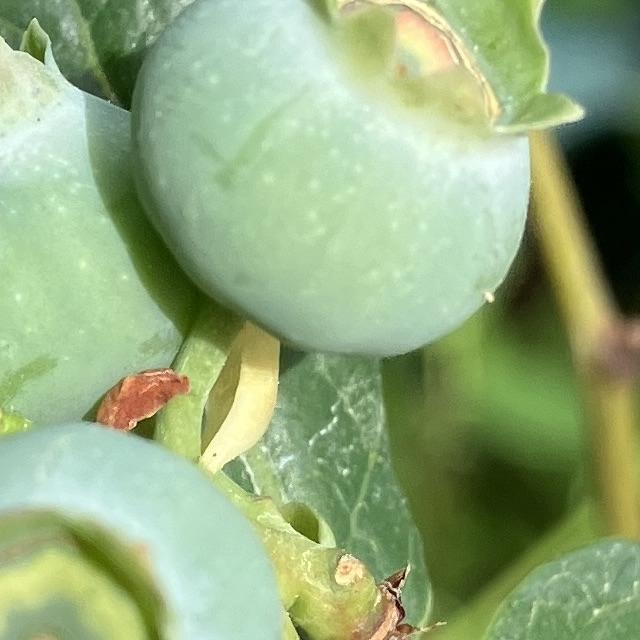Blueberries: (126, 0, 602, 358), (0, 420, 293, 640)
